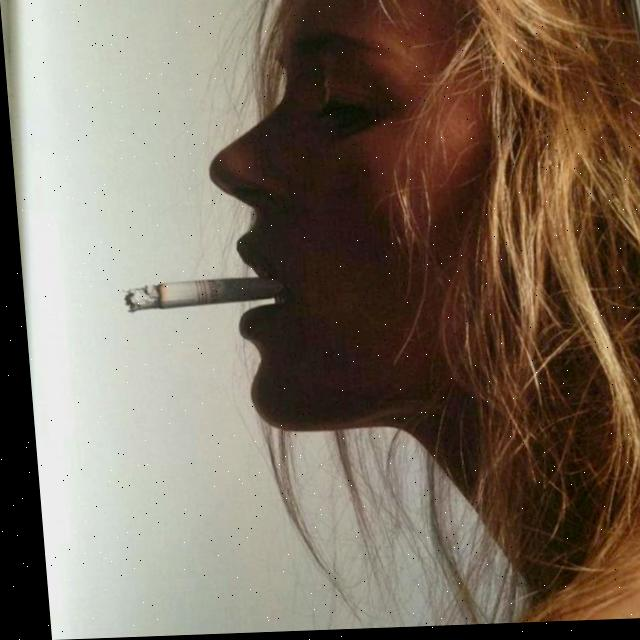cigarette: (118, 278, 281, 313)
